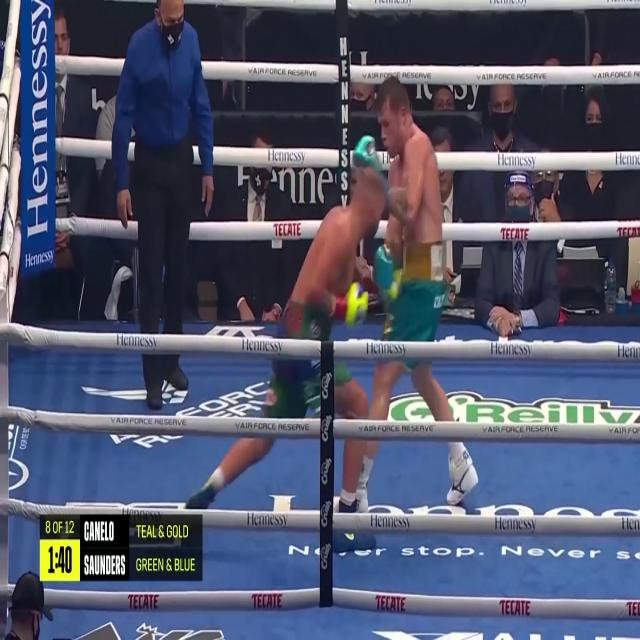boxer_1: (289, 166, 386, 316)
boxer_2: (376, 75, 443, 280)
gloves_1: (333, 281, 369, 324), (381, 269, 402, 302)
gloves_2: (373, 245, 403, 308), (353, 134, 383, 176)
